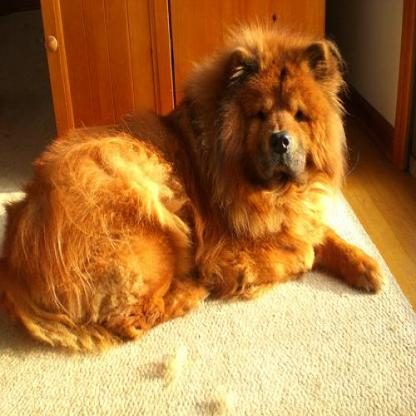chow: (0, 20, 381, 355)
